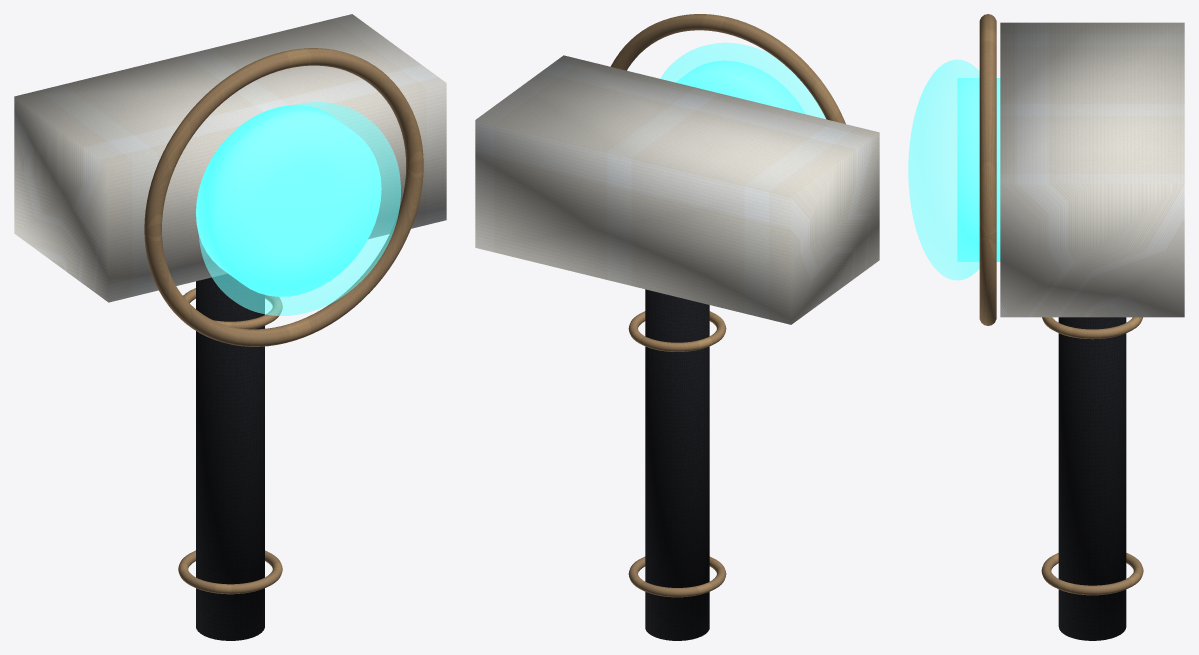
Rendered from Weapon_Player_EnergyHammer_Animated.glb.
The picture shows the model from 3 angles, left to right: view 1: azimuth 30°, elevation 25°; view 2: azimuth 150°, elevation 25°; view 3: azimuth 270°, elevation 25°; orthographic projection. The views are drawn at different scales.
Parts seen in each view (by area): view 1: HammerHead, EnergyCore, Handle; view 2: HammerHead, Handle, EnergyCore; view 3: HammerHead, Handle, EnergyCore.
Boxes of the visible parts, x1,y1,x2,y2 form: HammerHead: (14,14,446,346); EnergyCore: (196,102,400,315); Handle: (178,274,282,640); HammerHead: (475,14,879,324); Handle: (628,289,726,640); EnergyCore: (660,42,825,118); HammerHead: (979,14,1184,325); Handle: (1041,317,1143,640); EnergyCore: (908,59,1000,280).
Bounding box in the file's own units: 0.62 × 1.07 × 0.45.
Materials: 6 (4 with a texture image).
